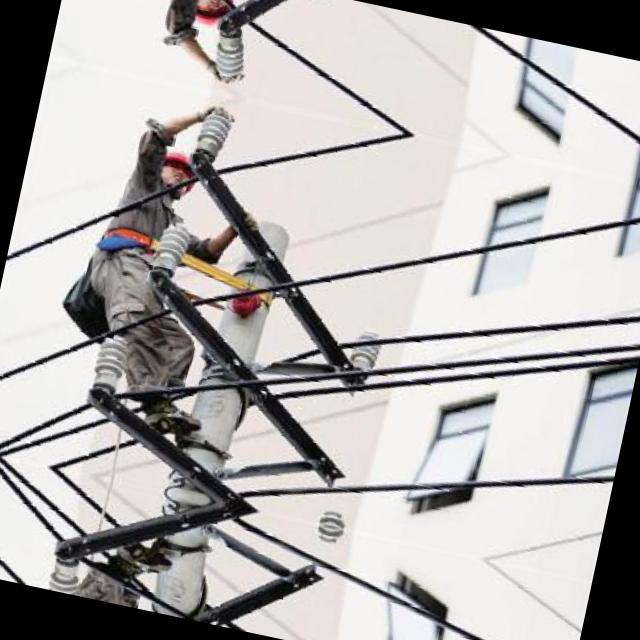helmet: (156, 144, 198, 190), (190, 0, 232, 33)
